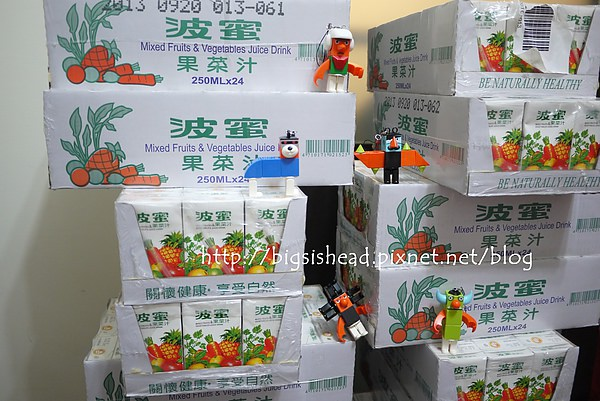vegetables juice: (181, 203, 245, 281), (119, 202, 183, 280), (243, 202, 307, 280), (178, 298, 242, 376), (240, 298, 304, 376), (120, 301, 184, 379), (521, 99, 585, 177), (463, 98, 527, 176), (478, 347, 537, 401), (530, 347, 572, 401), (442, 347, 484, 401)
